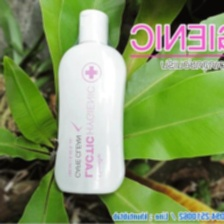cleaning_solution: (52, 6, 128, 197)
